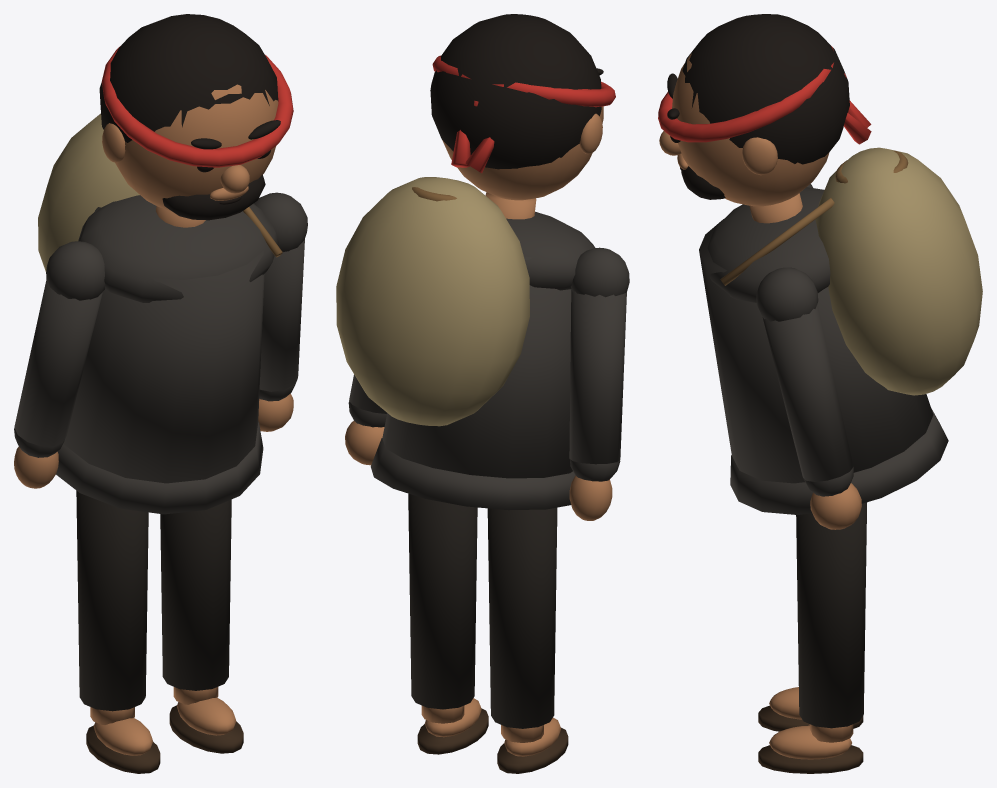
File: villager_binh_tu.glb
3 views of the same model, side by side, from view 1: azimuth 30°, elevation 25°; view 2: azimuth 150°, elevation 25°; view 3: azimuth 270°, elevation 25° (orthographic). The views are drawn at different scales.
Parts seen in each view (by area): view 1: Body, Head, LegL, LegR, ArmL, ArmR; view 2: Body, Head, LegL, LegR, ArmL, ArmR; view 3: Body, Head, LegR, ArmR, LegL.
Boxes of the visible parts, x1=… form: Body: x1=38, y1=113, x2=282, y2=514; Head: x1=99, y1=14, x2=293, y2=220; LegL: x1=76, y1=490, x2=160, y2=773; LegR: x1=160, y1=499, x2=243, y2=753; ArmL: x1=14, y1=241, x2=105, y2=488; ArmR: x1=254, y1=192, x2=307, y2=431; Body: x1=336, y1=177, x2=595, y2=510; Head: x1=430, y1=14, x2=615, y2=200; LegL: x1=487, y1=507, x2=568, y2=773; LegR: x1=408, y1=493, x2=488, y2=754; ArmL: x1=569, y1=247, x2=629, y2=520; ArmR: x1=345, y1=374, x2=386, y2=465; Body: x1=699, y1=147, x2=982, y2=514; Head: x1=658, y1=14, x2=871, y2=206; LegR: x1=758, y1=502, x2=867, y2=773; ArmR: x1=756, y1=267, x2=861, y2=529; LegL: x1=758, y1=687, x2=863, y2=731.
Size of the model in its own units: 0.6 by 1.53 by 0.6239.
